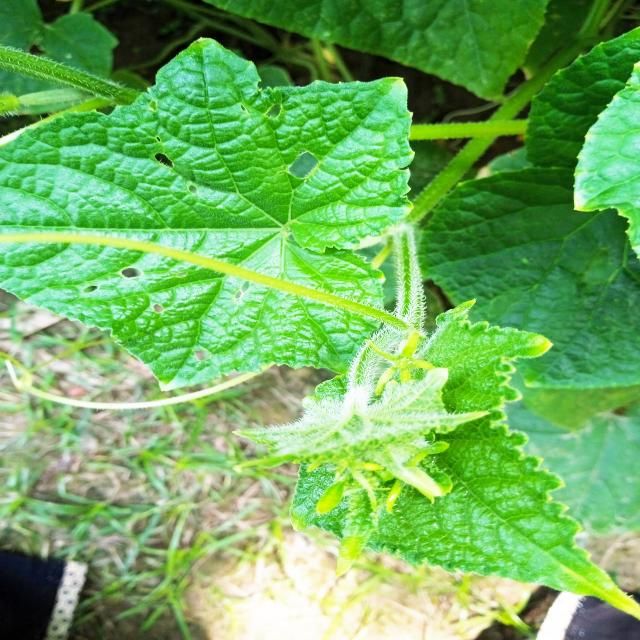Fresh-Leaf: (291, 297, 639, 623)
